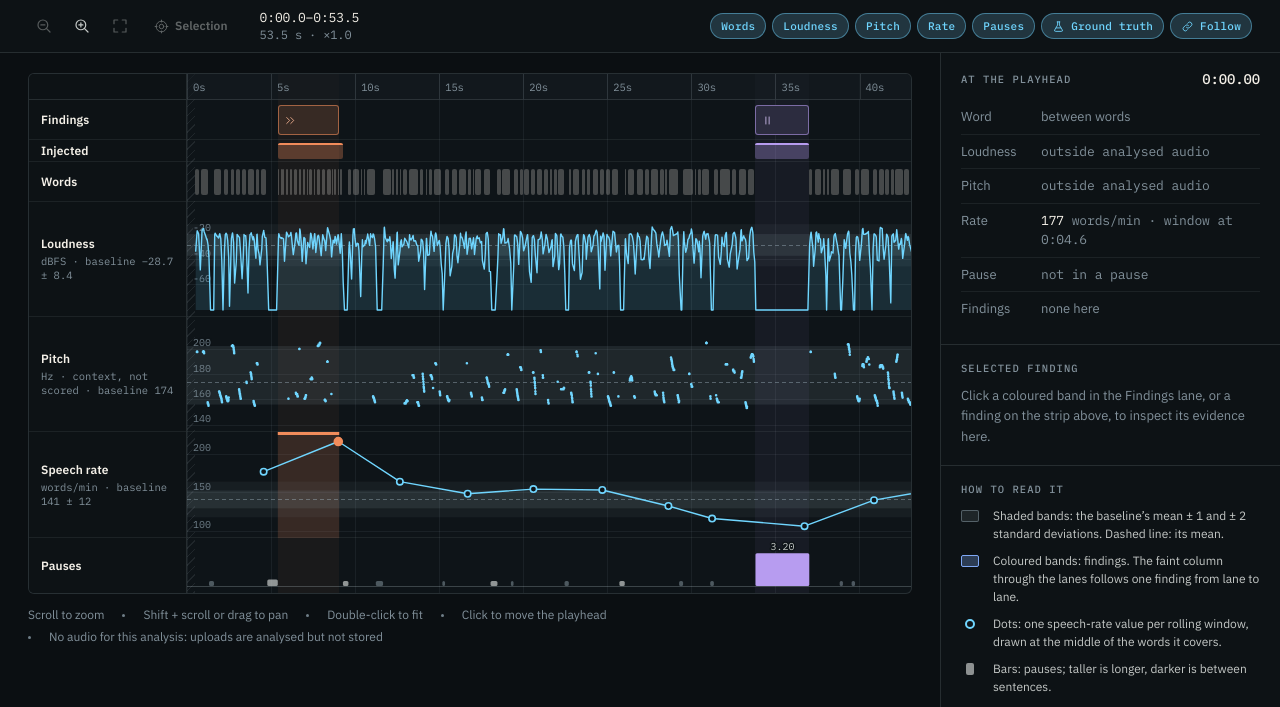
Scenario: TimelinePage › fills the inspector with the finding’s evidence when its band is chosen
This screenshot has width=1280, height=707.
Expected: the text "Click a coloured band" is shown, [961, 387, 1245, 445]
Click the button named "Too fast, 5.4 to 9.1 seconds, severity 0.53" at (309, 120), box [278, 105, 339, 135]
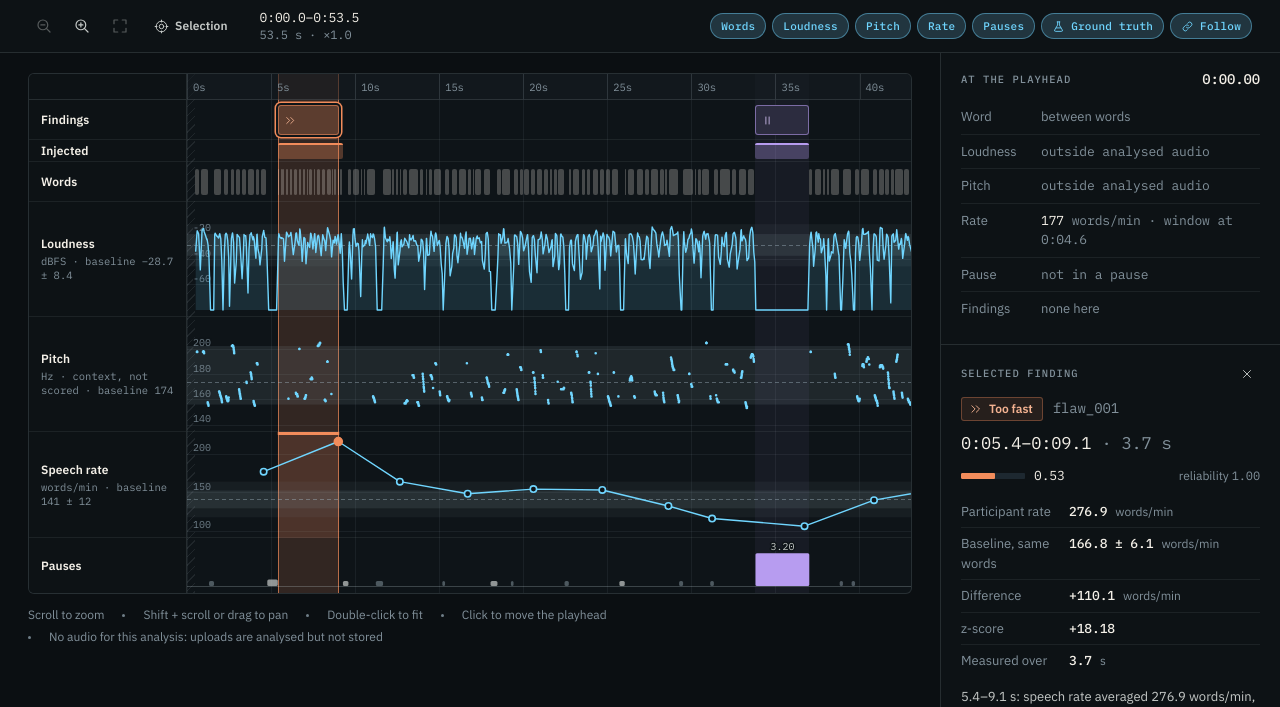
Result: the text "276.9" is shown at [1069, 502, 1107, 521]
Result: the text "flaw_001" is shown at [1053, 398, 1119, 419]
